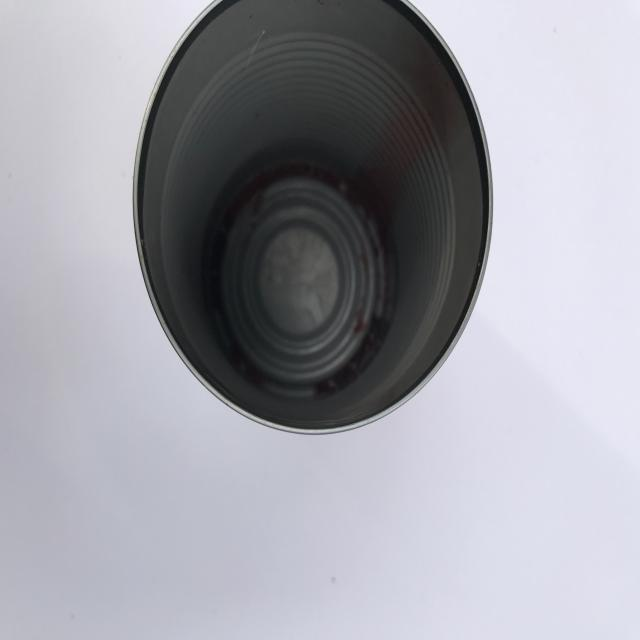metal: (133, 4, 495, 436)
